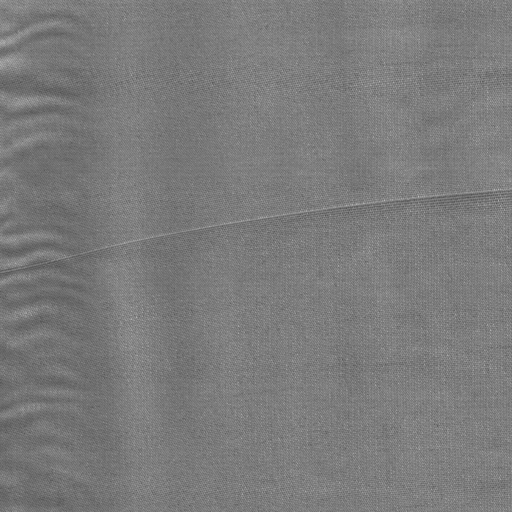defect: (1, 186, 512, 282)
